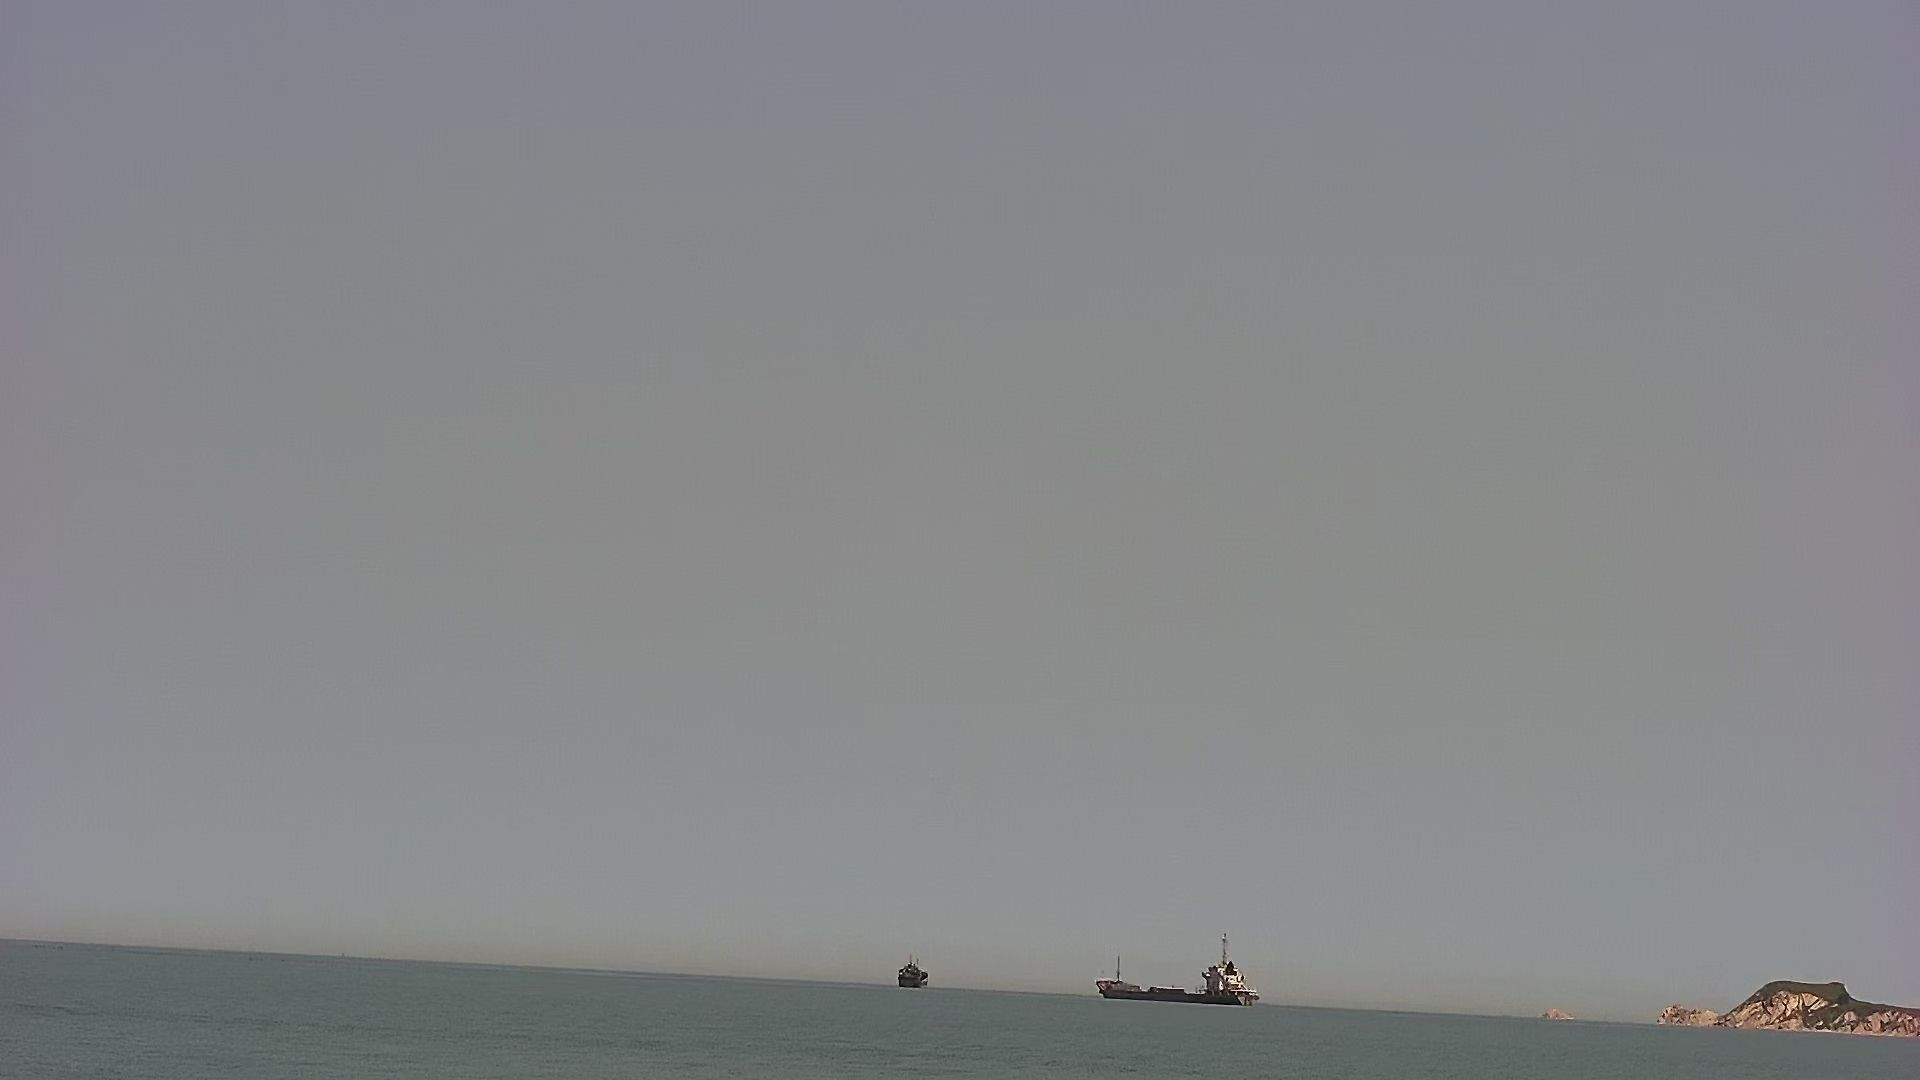rock: (1656, 976, 1920, 1040)
ship: (1095, 945, 1269, 1007), (895, 953, 932, 989)
